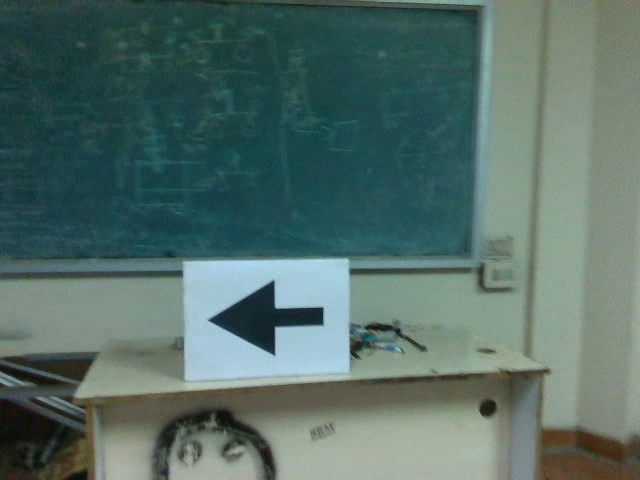Left: (202, 276, 331, 360)
